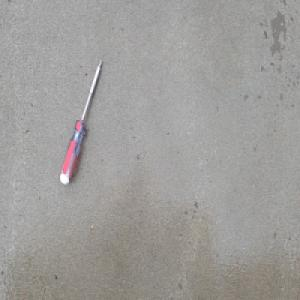Screwdriver: (58, 57, 103, 186)
